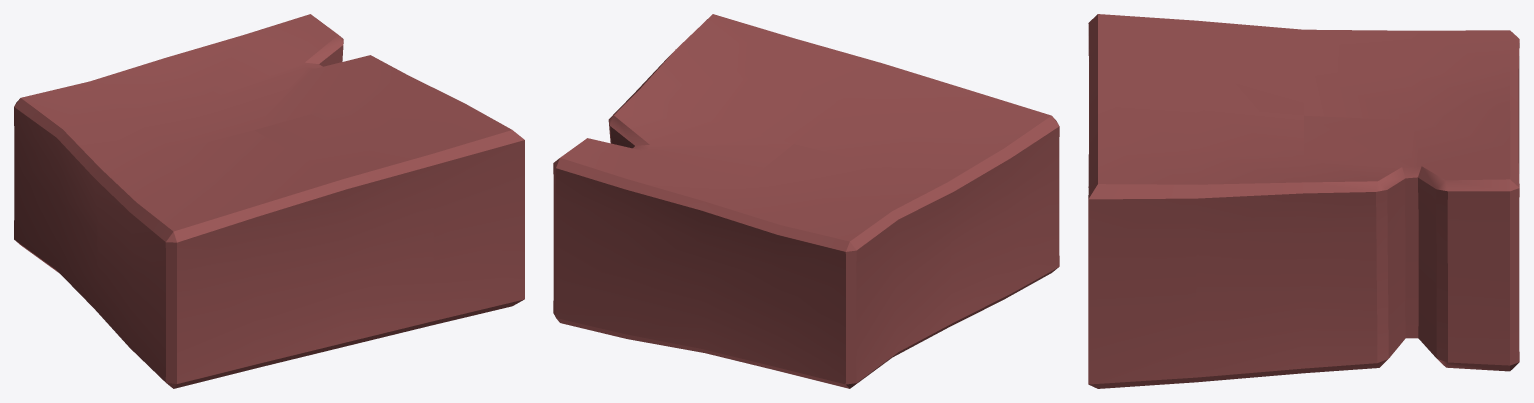
Rendered from Red4.fbx.
The picture shows the model from 3 angles, left to right: view 1: azimuth 30°, elevation 25°; view 2: azimuth 150°, elevation 25°; view 3: azimuth 270°, elevation 25°; orthographic projection. The views are drawn at different scales.
Parts seen in each view (by area): view 1: square; view 2: square; view 3: square.
Part boxes in pixels (x1=…): square: x1=14, y1=14, x2=524, y2=388; square: x1=553, y1=14, x2=1059, y2=388; square: x1=1088, y1=14, x2=1519, y2=388.
Bounding box in the file's own units: 1.96 × 0.9287 × 1.77.
